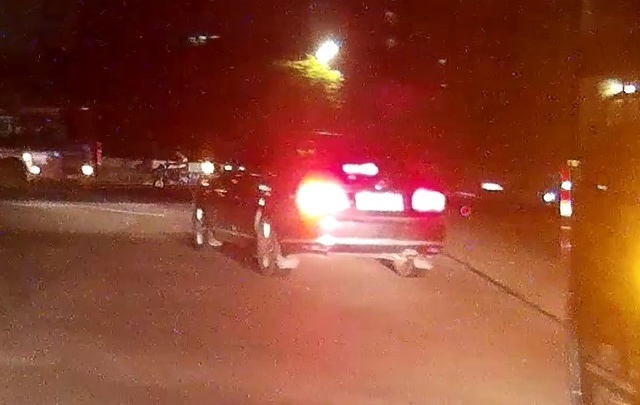L_light: (296, 176, 348, 218)
R_light: (411, 188, 446, 212)
T_light: (341, 162, 379, 175)
night-brake: (274, 131, 446, 277)
